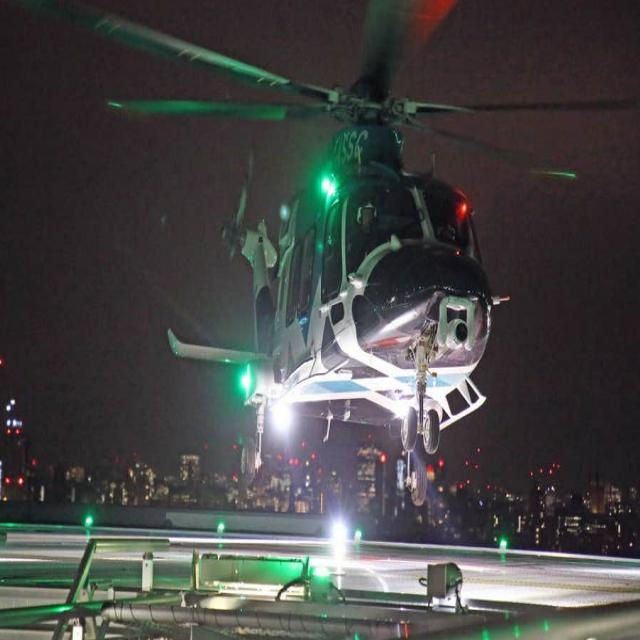helicopter: (70, 1, 632, 451)
